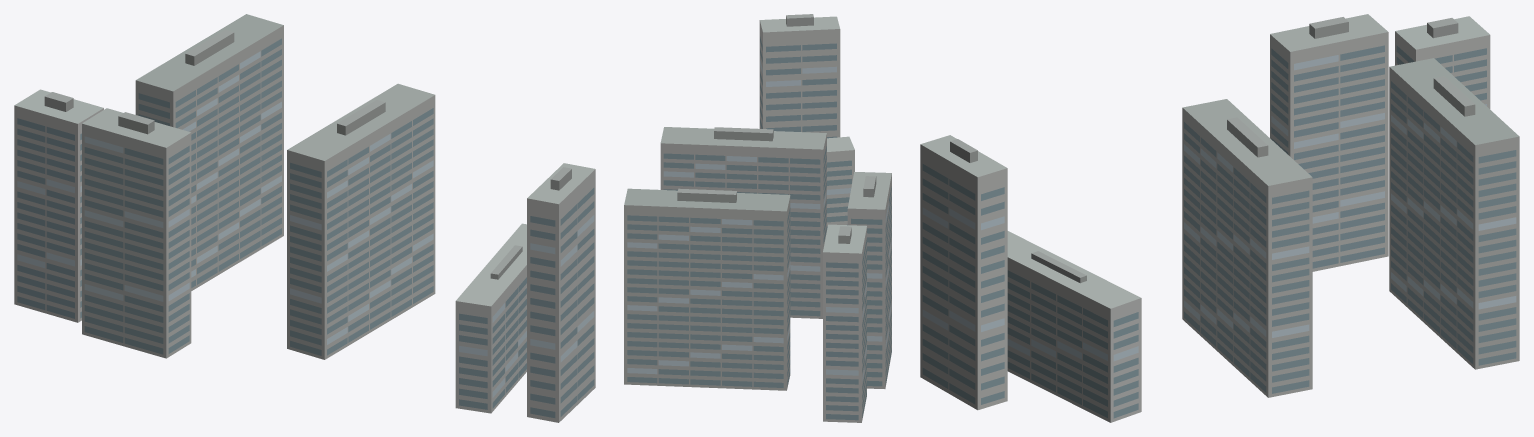
Rendered from apt-a14381504.glb.
The picture shows the model from 3 angles, left to right: view 1: azimuth 30°, elevation 25°; view 2: azimuth 150°, elevation 25°; view 3: azimuth 270°, elevation 25°; orthographic projection. The views are drawn at different scales.
Parts seen in each view (by area): view 1: apt-a14381504; view 2: apt-a14381504; view 3: apt-a14381504.
Boxes of the visible parts, left/top/right/bottom form: apt-a14381504: left=14, top=14, right=595, bottom=422; apt-a14381504: left=624, top=14, right=891, bottom=422; apt-a14381504: left=920, top=14, right=1519, bottom=422.
Size of the model in its own units: 97.93 by 57 by 127.
